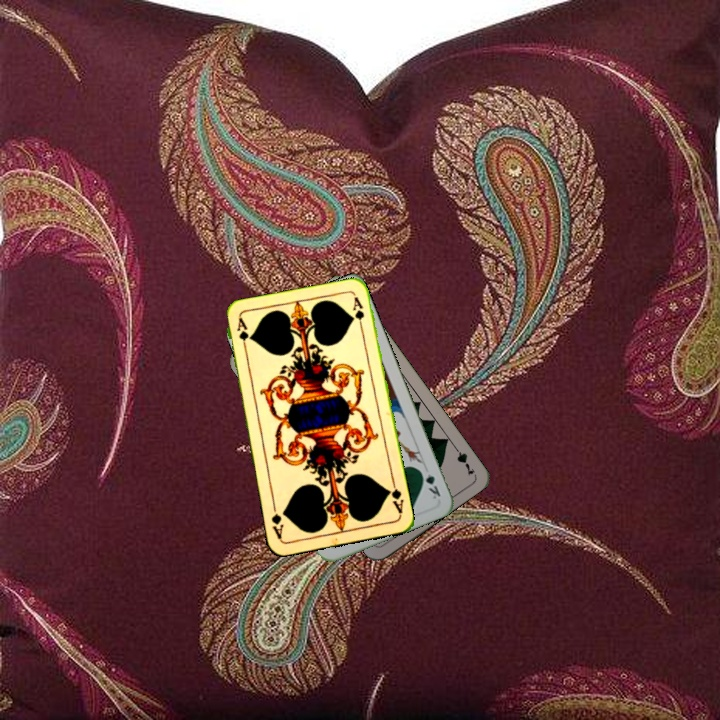G7: (449, 441, 478, 478)
GA: (383, 477, 406, 517), (233, 314, 252, 355)
GK: (416, 466, 443, 502)
